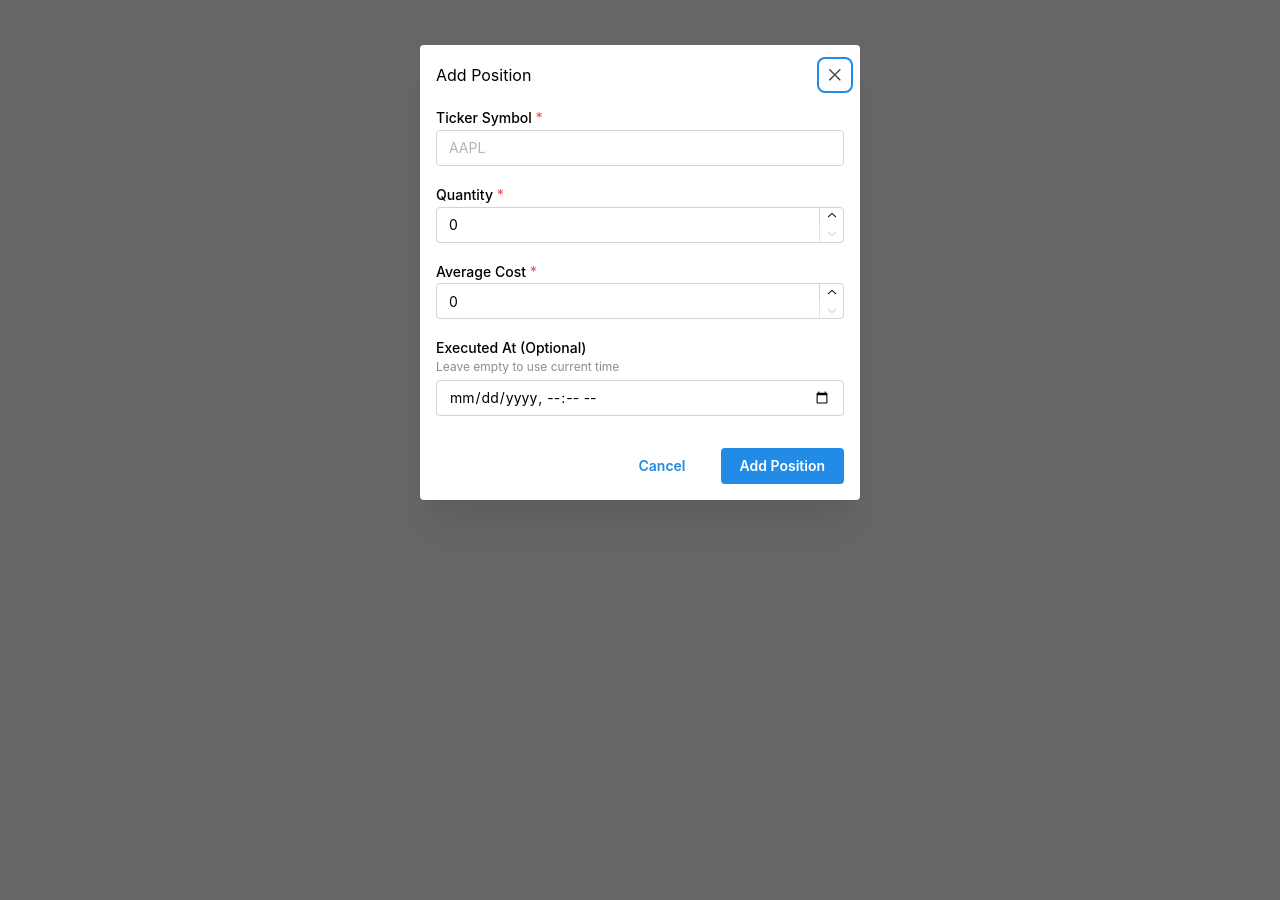
AddPositionDialog › validates required fields
Step 1. Click the button "Add Position" → (782, 466), box [720,448,844,484]
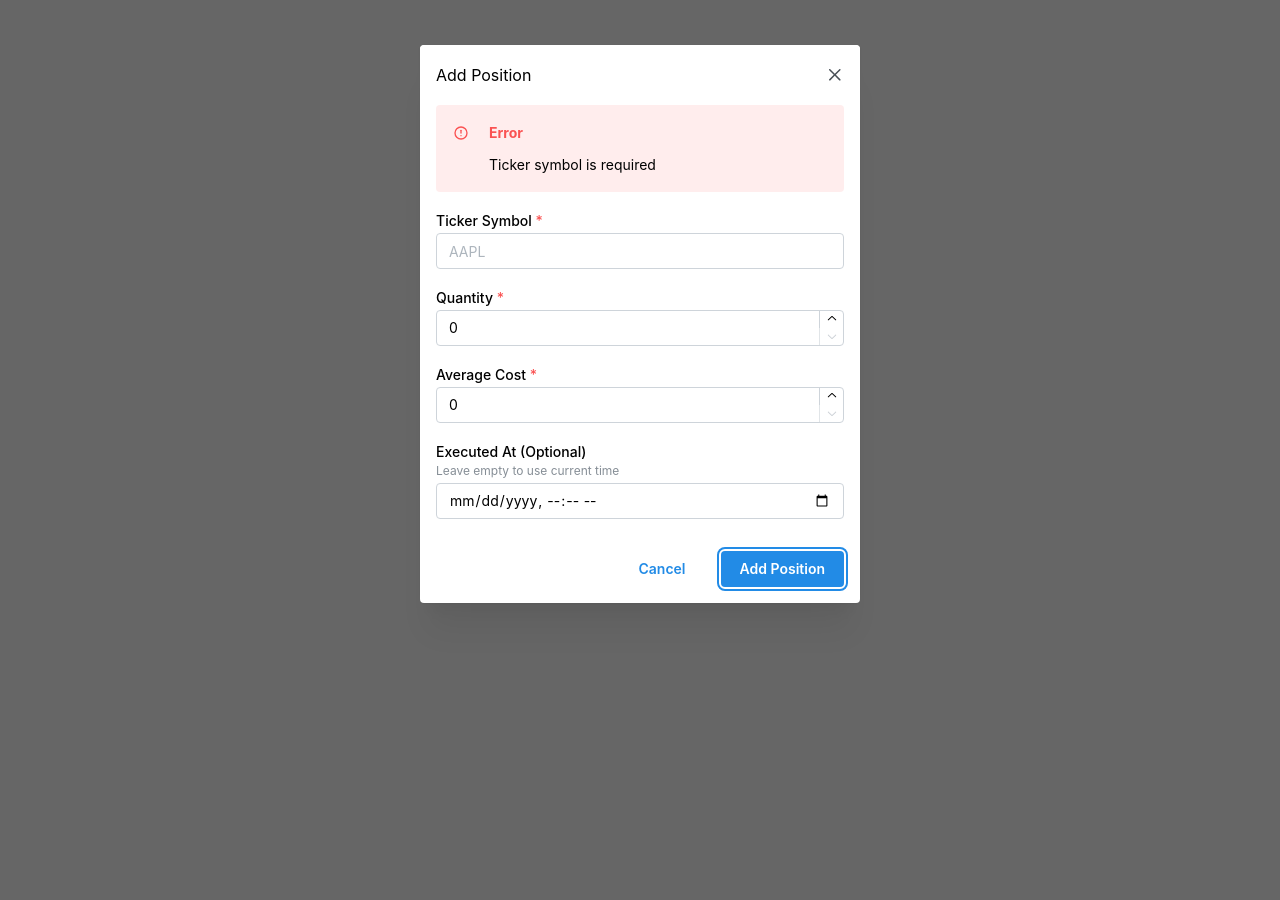
expect the text "Ticker symbol is required" is shown: met, box [489,156,656,173]
